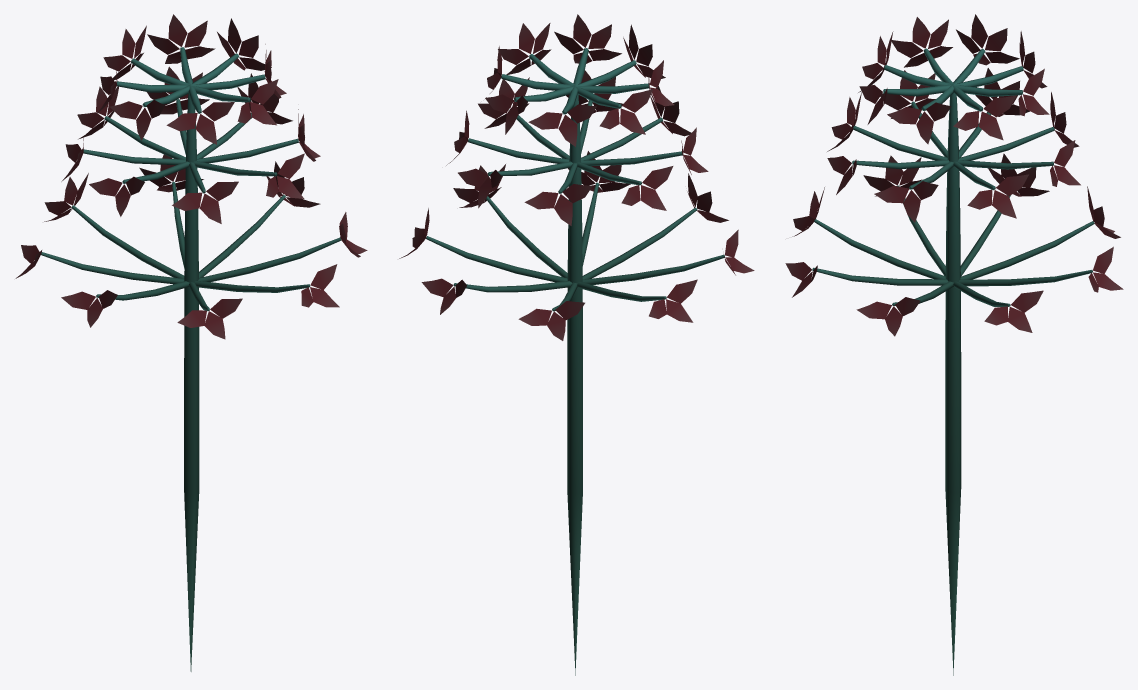
3 renders of one model, left to right at view 1: azimuth 30°, elevation 25°; view 2: azimuth 150°, elevation 25°; view 3: azimuth 270°, elevation 25°, orthographic.
Parts seen in each view (by area): view 1: alt116; view 2: alt116; view 3: alt116.
Part boxes in pixels (x1,y1,x2,y2): alt116: (15, 14, 367, 671); alt116: (399, 14, 754, 675); alt116: (785, 14, 1123, 675).
Size of the model in its own units: 0.2448 by 0.5 by 0.2448.
